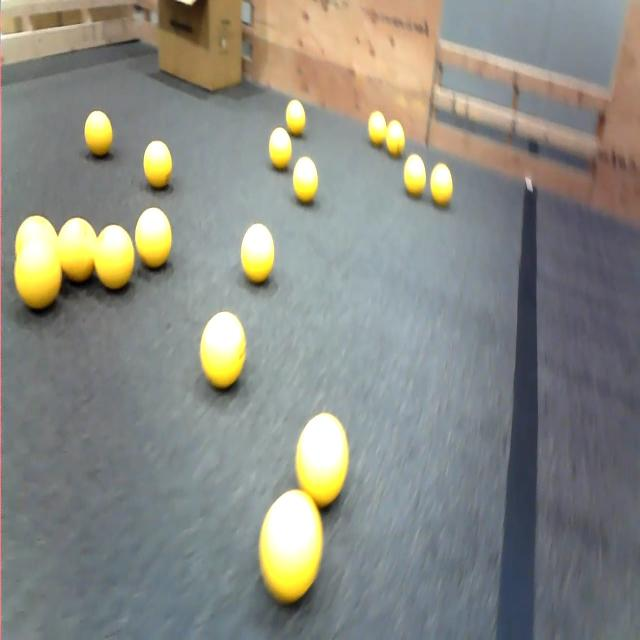fuel: (259, 490, 323, 604), (296, 413, 348, 508), (200, 312, 245, 389), (14, 239, 62, 310), (94, 224, 134, 290), (58, 217, 96, 282), (135, 208, 172, 268), (241, 224, 274, 284), (15, 216, 57, 255), (143, 141, 172, 189), (84, 111, 112, 157), (293, 157, 318, 203), (430, 163, 453, 206), (404, 154, 426, 197), (269, 128, 291, 170), (386, 120, 406, 157), (286, 99, 305, 135), (368, 111, 386, 146)
